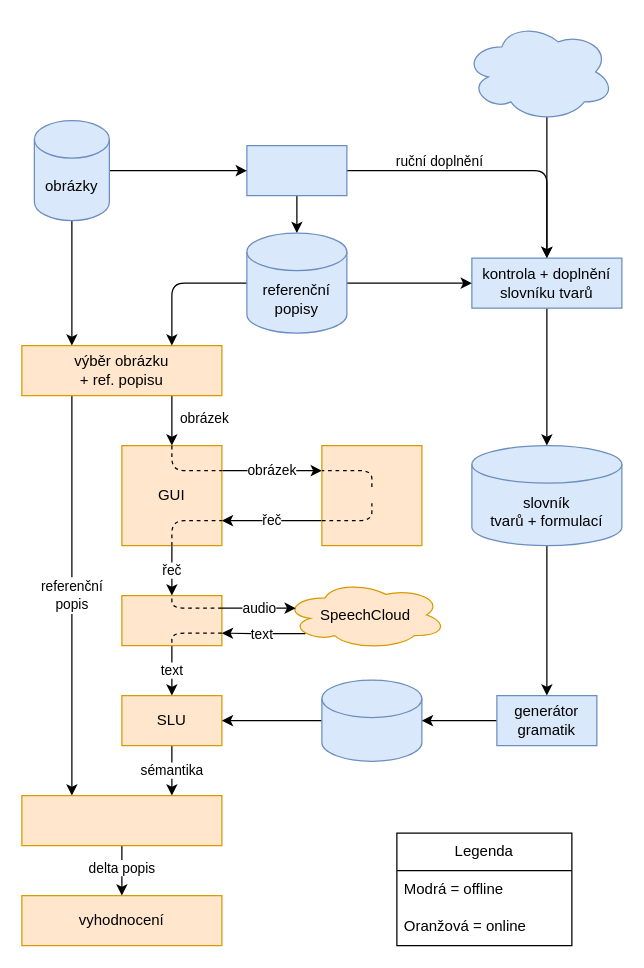
Image size: 644x968. Some labels were removed from this diagram. Each missing label, with the centre of its shape:
ASR: pixel 171 620
expert (já): pixel 296 170
gramatiky: pixel 371 720
Internet: pixel 538 71
komparátor: pixel 121 820
uživatel: pixel 371 495
